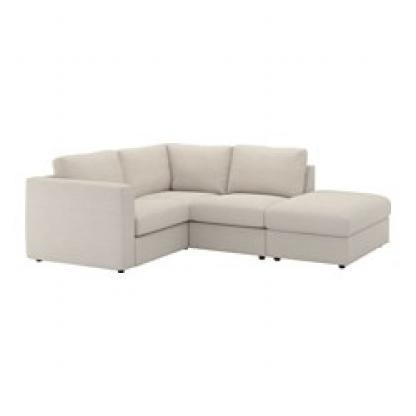Sofa: (19, 123, 394, 311)
